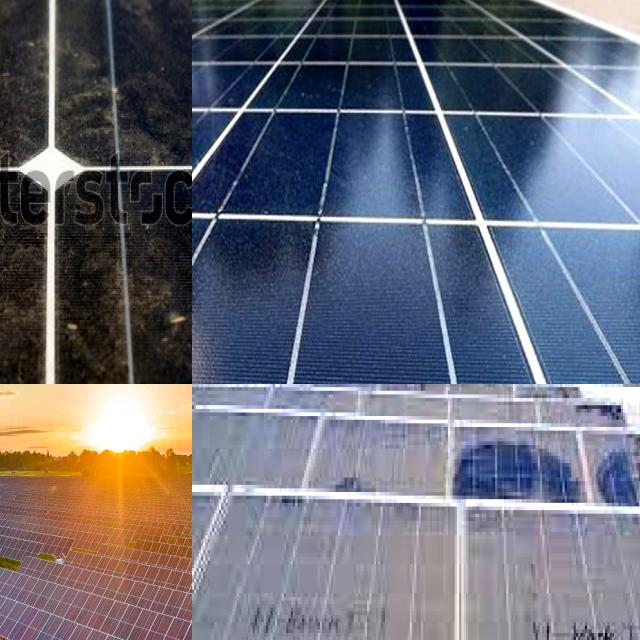crack: (192, 0, 640, 384)
dust: (62, 176, 177, 384), (68, 0, 192, 158), (192, 503, 318, 640), (327, 518, 451, 640), (0, 0, 74, 165), (0, 0, 65, 163), (0, 171, 44, 384), (448, 436, 574, 506), (192, 412, 303, 490), (476, 518, 588, 590), (0, 175, 35, 384), (318, 430, 436, 490), (0, 176, 34, 384), (60, 0, 192, 37), (581, 425, 640, 506), (604, 528, 640, 626), (474, 599, 553, 640), (192, 498, 213, 640), (0, 0, 89, 32), (562, 593, 617, 640)
